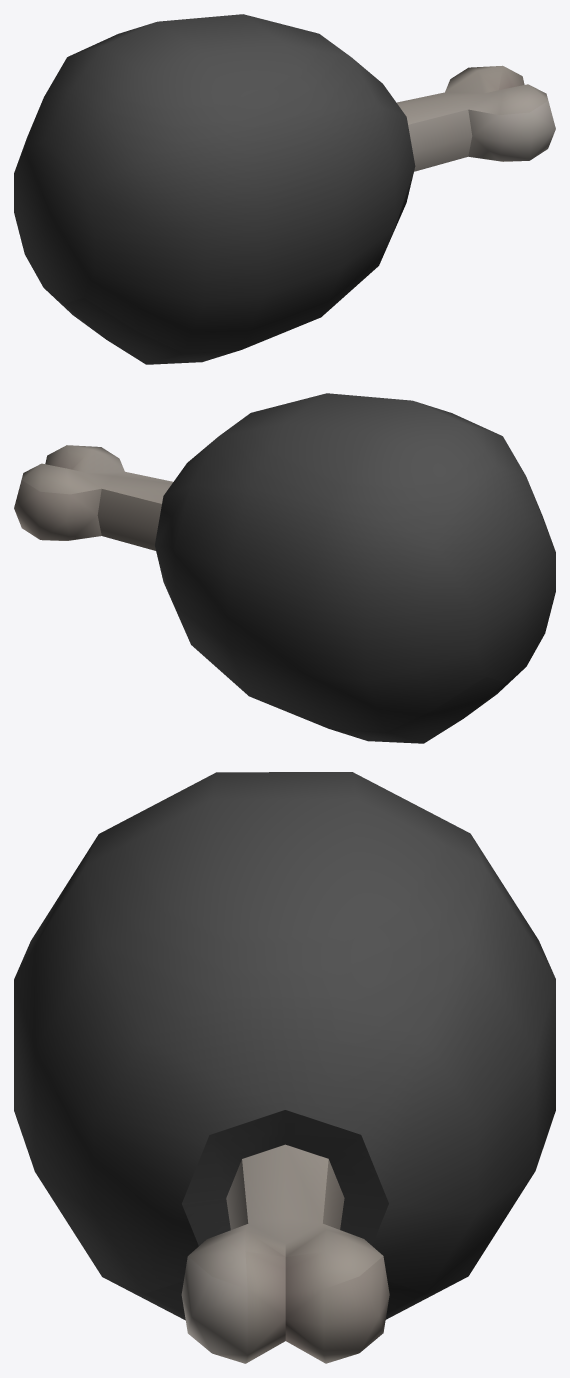
Rendered from food_ingredient_ham_trash.obj.
3 views of the same model, one above another, from view 1: azimuth 30°, elevation 25°; view 2: azimuth 150°, elevation 25°; view 3: azimuth 270°, elevation 25° (orthographic). The views are drawn at different scales.
Visible parts, largest first — view 1: food_ingredient_ham_trash_Cylinder.091; view 2: food_ingredient_ham_trash_Cylinder.091; view 3: food_ingredient_ham_trash_Cylinder.091.
Part boxes in pixels (x1,y1,x2,y2): food_ingredient_ham_trash_Cylinder.091: (14, 14, 555, 364); food_ingredient_ham_trash_Cylinder.091: (14, 393, 555, 743); food_ingredient_ham_trash_Cylinder.091: (14, 772, 555, 1363).
Size of the model in its own units: 1.39 by 0.83 by 0.83.
1 material, 1 textured.
